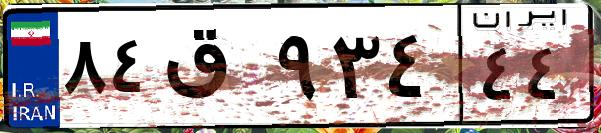3: (330, 28, 385, 110)
4: (385, 28, 445, 110), (475, 38, 525, 113), (525, 38, 570, 115), (110, 28, 158, 98)
8: (57, 26, 110, 100)
9: (270, 28, 330, 110)
ق: (158, 20, 270, 120)
